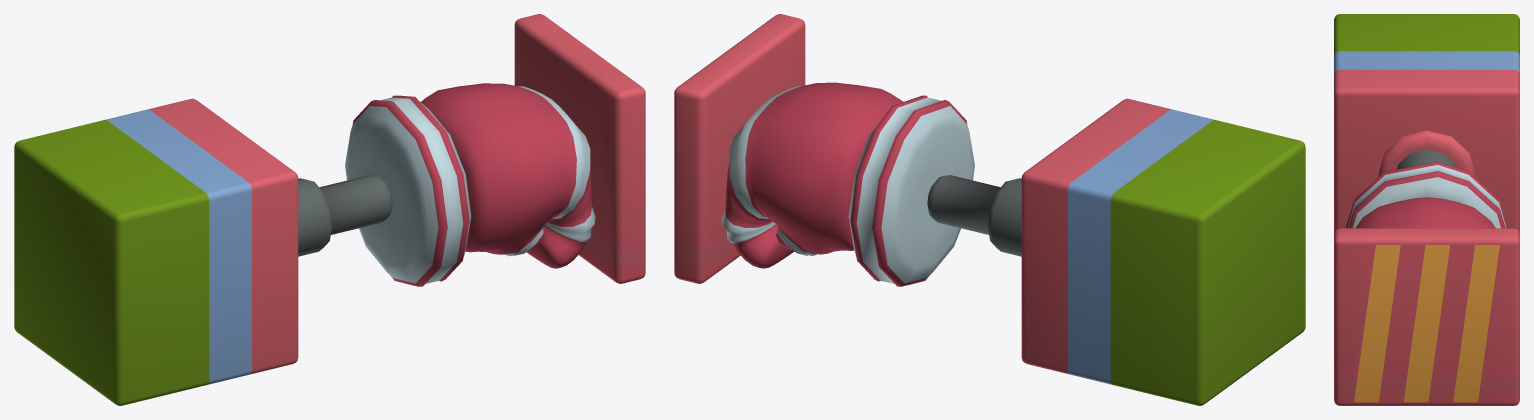
Rendered from fist.fbx.
The picture shows the model from 3 angles, left to right: view 1: azimuth 30°, elevation 25°; view 2: azimuth 150°, elevation 25°; view 3: azimuth 270°, elevation 25°; orthographic projection. The views are drawn at different scales.
Parts seen in each view (by area): view 1: fist, fist1; view 2: fist, fist1; view 3: fist1, fist.
Boxes of the visible parts, x1,y1,x2,y2 form: fist: (14, 98, 298, 405); fist1: (298, 14, 645, 286); fist: (1021, 98, 1305, 405); fist1: (674, 14, 1021, 286); fist1: (1334, 149, 1519, 405); fist: (1334, 14, 1519, 233).
Bounding box in the file's own units: 868 × 300 × 300.
1 material, 1 textured.
